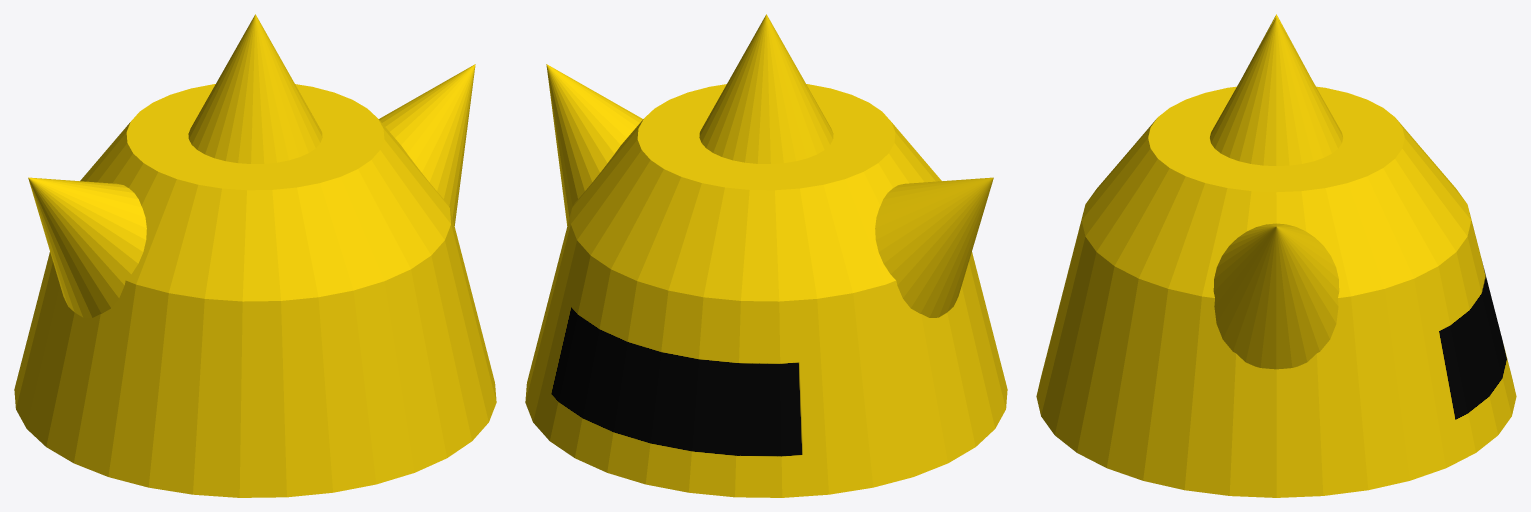
The model's file is gold starman.glb.
3 renders of one model, left to right at view 1: azimuth 30°, elevation 25°; view 2: azimuth 150°, elevation 25°; view 3: azimuth 270°, elevation 25°, orthographic.
Visible parts, largest first — view 1: starman, Cone.002, Cone, Cone.001; view 2: starman, Cone.002, Cone, Cone.001; view 3: starman, Cone.001, Cone.
Part boxes in pixels (x1,y1,x2,y2): starman: [14, 84, 496, 497]; Cone.002: [28, 177, 146, 317]; Cone: [188, 14, 322, 163]; Cone.001: [379, 64, 475, 225]; starman: [525, 84, 1007, 497]; Cone.002: [875, 177, 993, 317]; Cone: [699, 14, 833, 163]; Cone.001: [546, 64, 642, 225]; starman: [1036, 86, 1516, 497]; Cone.001: [1213, 223, 1339, 369]; Cone: [1210, 17, 1342, 165].
Bounding box in the file's own units: 2.14 × 1.74 × 2.
1 material, 1 textured.
